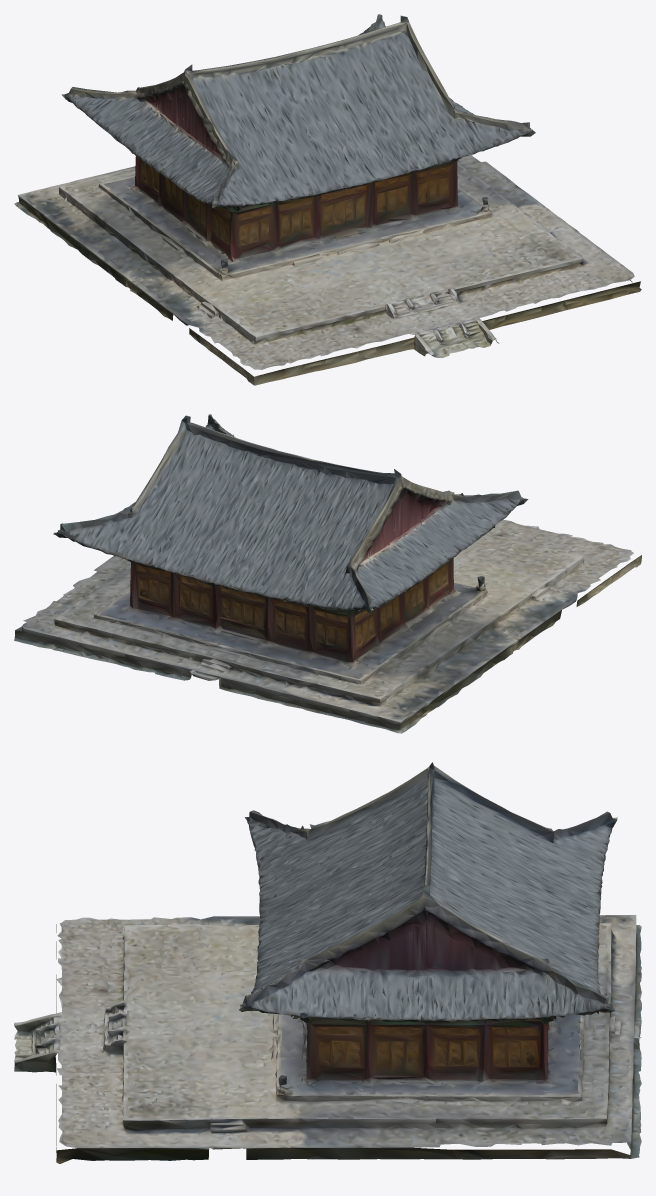
The model's file is junghwajeon.glb.
3 renders of one model, top to bottom at view 1: azimuth 30°, elevation 25°; view 2: azimuth 150°, elevation 25°; view 3: azimuth 270°, elevation 25°, orthographic. The views are drawn at different scales.
Size of the model in its own units: 40.43 by 20.1 by 46.29.
